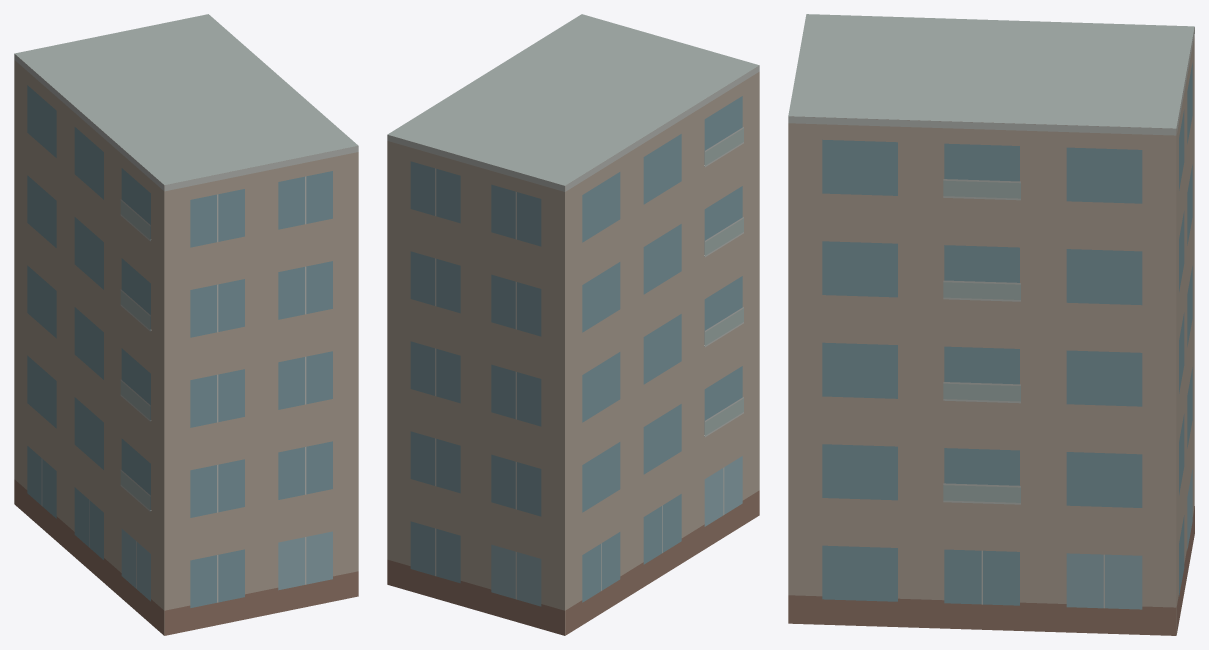
The model's file is survey-upis-33003512.glb.
The picture shows the model from 3 angles, left to right: view 1: azimuth 30°, elevation 25°; view 2: azimuth 150°, elevation 25°; view 3: azimuth 270°, elevation 25°; orthographic projection. The views are drawn at different scales.
Visible parts, largest first — view 1: survey-upis-33003512.tmp; view 2: survey-upis-33003512.tmp; view 3: survey-upis-33003512.tmp.
Part boxes in pixels (x1,y1,x2,y2): survey-upis-33003512.tmp: [14, 14, 358, 635]; survey-upis-33003512.tmp: [387, 14, 759, 635]; survey-upis-33003512.tmp: [788, 14, 1194, 635].
Size of the model in its own units: 8.58 by 17.7 by 12.87.
